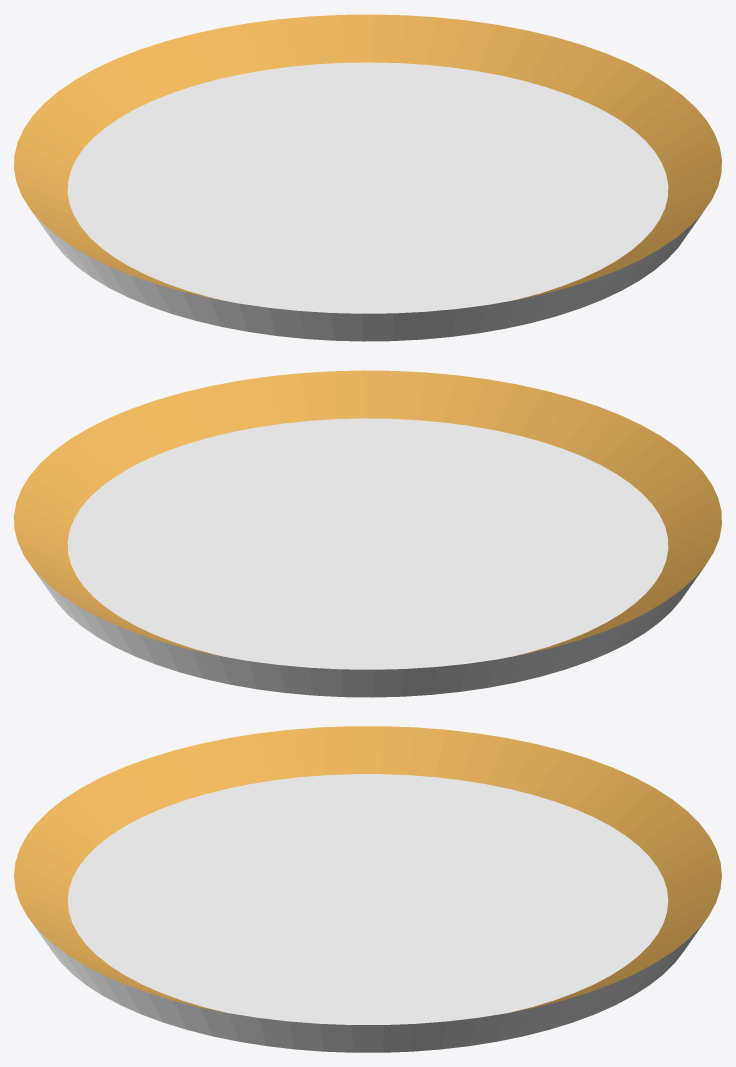
The model's file is Res01_Plate1.fbx.
The picture shows the model from 3 angles, top to bottom: view 1: azimuth 30°, elevation 25°; view 2: azimuth 150°, elevation 25°; view 3: azimuth 270°, elevation 25°; orthographic projection.
Parts seen in each view (by area): view 1: Res01_Plate1; view 2: Res01_Plate1; view 3: Res01_Plate1.
Part boxes in pixels (x1,y1,x2,y2): Res01_Plate1: (14, 14, 721, 341); Res01_Plate1: (14, 370, 721, 697); Res01_Plate1: (14, 726, 721, 1052).
Size of the model in its own units: 100 by 6.05 by 100.
